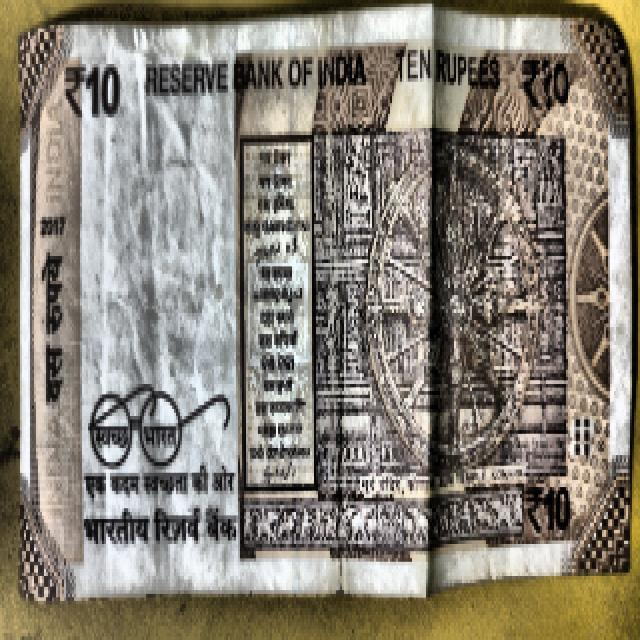-10-: (20, 21, 640, 582)
